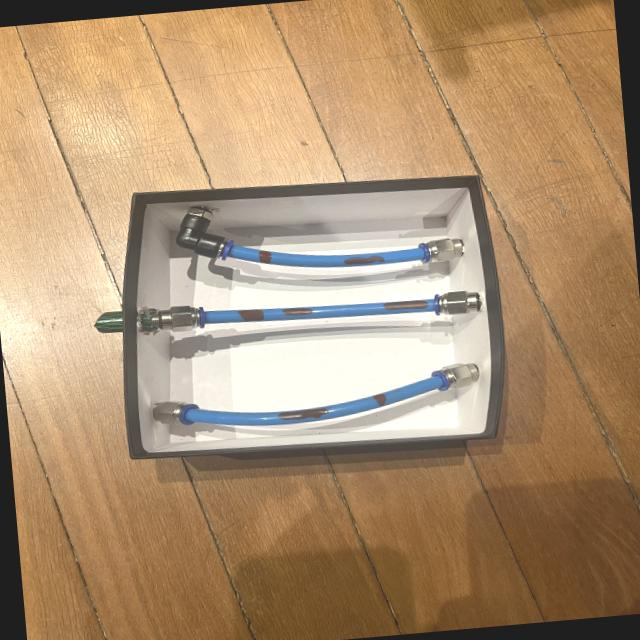hose_damage: (273, 404, 330, 423), (339, 252, 388, 267), (382, 298, 431, 312), (236, 307, 266, 324), (278, 305, 316, 317), (372, 390, 388, 408), (256, 249, 274, 264)
